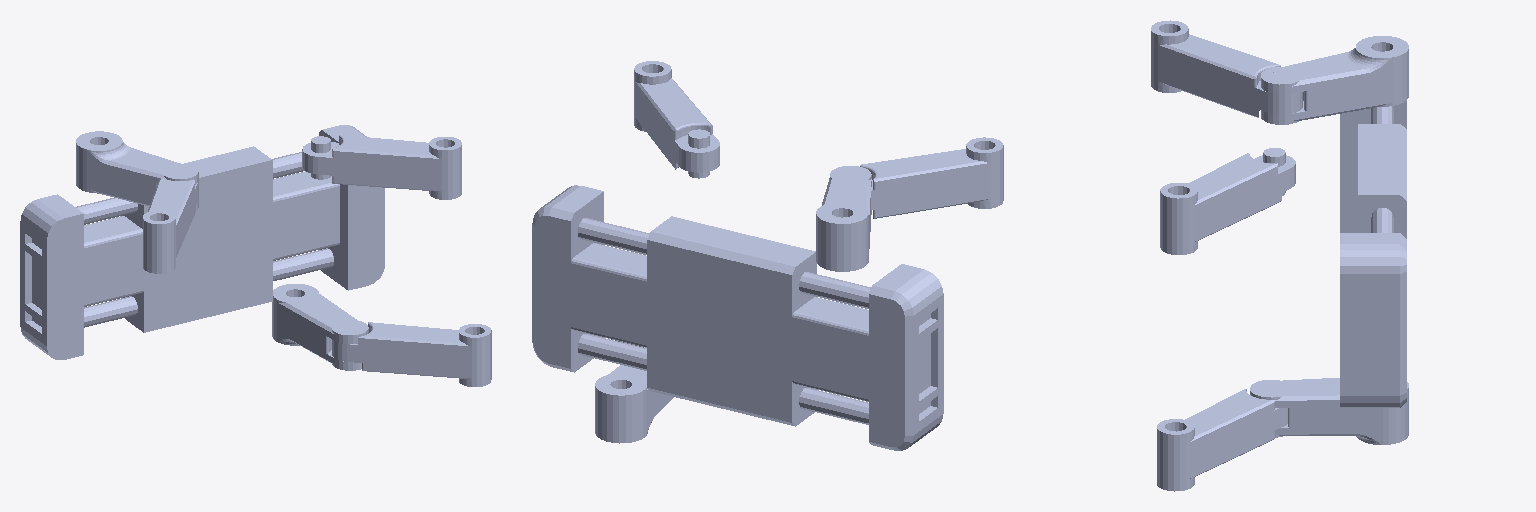
robot.urdf — Assem1_v3.SLDASM:
<?xml version="1.0" encoding="utf-8"?>
<!-- This URDF was automatically created by SolidWorks to URDF Exporter! Originally created by [author] ([email redacted]) 
     Commit Version: 1.6.0-4-g7f85cfe  Build Version: 1.6.7995.38578
     For more information, please see http://wiki.ros.org/sw_urdf_exporter -->
<robot
  name="Assem1_v3.SLDASM">
  <link
    name="base_link">
    <inertial>
      <origin
        xyz="0.00454531888101939 -0.0617123667166056 -2.77555756156289E-17"
        rpy="0 0 0" />
      <mass
        value="38.4857486524171" />
      <inertia
        ixx="0.485830705764068"
        ixy="0.00363638069026404"
        ixz="1.66245679239784E-16"
        iyy="3.89642509357713"
        iyz="1.06299583251663E-17"
        izz="3.51367848534271" />
    </inertial>
    <visual>
      <origin
        xyz="0 0 0"
        rpy="0 0 0" />
      <geometry>
        <mesh
          filename="package://Assem1_v3.SLDASM/meshes/base_link.STL" />
      </geometry>
      <material
        name="">
        <color
          rgba="0.792156862745098 0.819607843137255 0.933333333333333 1" />
      </material>
    </visual>
    <collision>
      <origin
        xyz="0 0 0"
        rpy="0 0 0" />
      <geometry>
        <mesh
          filename="package://Assem1_v3.SLDASM/meshes/base_link.STL" />
      </geometry>
    </collision>
  </link>
  <link
    name="flu_link">
    <inertial>
      <origin
        xyz="0.0900093081078345 2.8436243387775E-08 0.0538957967382936"
        rpy="0 0 0" />
      <mass
        value="3.08030257121594" />
      <inertia
        ixx="0.00640523404832462"
        ixy="3.23758606924664E-09"
        ixz="0.00104219417291525"
        iyy="0.026234794652848"
        iyz="-1.06222201156497E-08"
        izz="0.0261860648976372" />
    </inertial>
    <visual>
      <origin
        xyz="0 0 0"
        rpy="0 0 0" />
      <geometry>
        <mesh
          filename="package://Assem1_v3.SLDASM/meshes/flu_link.STL" />
      </geometry>
      <material
        name="">
        <color
          rgba="0.792156862745098 0.819607843137255 0.933333333333333 1" />
      </material>
    </visual>
    <collision>
      <origin
        xyz="0 0 0"
        rpy="0 0 0" />
      <geometry>
        <mesh
          filename="package://Assem1_v3.SLDASM/meshes/flu_link.STL" />
      </geometry>
    </collision>
  </link>
  <joint
    name="flu"
    type="revolute">
    <origin
      xyz="-0.29 -0.0550000000000003 0.2225"
      rpy="0 0 -1.12122873429267" />
    <parent
      link="base_link" />
    <child
      link="flu_link" />
    <axis
      xyz="0 0 1" />
    <limit
      lower="-1.57"
      upper="1.57"
      effort="100"
      velocity="10" />
  </joint>
  <link
    name="fll_link">
    <inertial>
      <origin
        xyz="0.16795485109117 1.1376176762834E-05 0.0499908753255481"
        rpy="0 0 0" />
      <mass
        value="3.19560260529421" />
      <inertia
        ixx="0.00497469754329268"
        ixy="4.81122477130808E-06"
        ixz="-3.85736306831486E-06"
        iyy="0.0406802699593358"
        iyz="1.30236499604513E-06"
        izz="0.039923443033037" />
    </inertial>
    <visual>
      <origin
        xyz="0 0 0"
        rpy="0 0 0" />
      <geometry>
        <mesh
          filename="package://Assem1_v3.SLDASM/meshes/fll_link.STL" />
      </geometry>
      <material
        name="">
        <color
          rgba="0.792156862745098 0.819607843137255 0.933333333333333 1" />
      </material>
    </visual>
    <collision>
      <origin
        xyz="0 0 0"
        rpy="0 0 0" />
      <geometry>
        <mesh
          filename="package://Assem1_v3.SLDASM/meshes/fll_link.STL" />
      </geometry>
    </collision>
  </link>
  <joint
    name="fll"
    type="revolute">
    <origin
      xyz="0.25 0 0"
      rpy="0 0 -1.13851717439948" />
    <parent
      link="flu_link" />
    <child
      link="fll_link" />
    <axis
      xyz="0 0 1" />
    <limit
      lower="-1.57"
      upper="1.57"
      effort="100"
      velocity="10" />
  </joint>
  <link
    name="fru_link">
    <inertial>
      <origin
        xyz="0.0900093102167698 3.4641804064206E-08 0.053895779669951"
        rpy="0 0 0" />
      <mass
        value="3.08030206641427" />
      <inertia
        ixx="0.00640522970601072"
        ixy="5.18665106241482E-09"
        ixz="0.00104219303257973"
        iyy="0.0262347879832158"
        iyz="-1.30138679828133E-08"
        izz="0.0261860612180928" />
    </inertial>
    <visual>
      <origin
        xyz="0 0 0"
        rpy="0 0 0" />
      <geometry>
        <mesh
          filename="package://Assem1_v3.SLDASM/meshes/fru_link.STL" />
      </geometry>
      <material
        name="">
        <color
          rgba="0.792156862745098 0.819607843137255 0.933333333333333 1" />
      </material>
    </visual>
    <collision>
      <origin
        xyz="0 0 0"
        rpy="0 0 0" />
      <geometry>
        <mesh
          filename="package://Assem1_v3.SLDASM/meshes/fru_link.STL" />
      </geometry>
    </collision>
  </link>
  <joint
    name="fru"
    type="revolute">
    <origin
      xyz="-0.289999999999999 -0.0550000000000002 -0.2225"
      rpy="3.14159265358979 0 -1.00317652384274" />
    <parent
      link="base_link" />
    <child
      link="fru_link" />
    <axis
      xyz="0 0 1" />
    <limit
      lower="-1.57"
      upper="1.57"
      effort="100"
      velocity="10" />
  </joint>
  <link
    name="frl_link">
    <inertial>
      <origin
        xyz="0.167954851146316 1.13763076222684E-05 0.0499908752785411"
        rpy="0 0 0" />
      <mass
        value="3.19560260133236" />
      <inertia
        ixx="0.00497469753825961"
        ixy="4.8112471454408E-06"
        ixz="-3.85738975864844E-06"
        iyy="0.0406802699104282"
        iyz="1.30235932492415E-06"
        izz="0.0399234429887749" />
    </inertial>
    <visual>
      <origin
        xyz="0 0 0"
        rpy="0 0 0" />
      <geometry>
        <mesh
          filename="package://Assem1_v3.SLDASM/meshes/frl_link.STL" />
      </geometry>
      <material
        name="">
        <color
          rgba="0.792156862745098 0.819607843137255 0.933333333333333 1" />
      </material>
    </visual>
    <collision>
      <origin
        xyz="0 0 0"
        rpy="0 0 0" />
      <geometry>
        <mesh
          filename="package://Assem1_v3.SLDASM/meshes/frl_link.STL" />
      </geometry>
    </collision>
  </link>
  <joint
    name="frl"
    type="revolute">
    <origin
      xyz="0.25 0 0"
      rpy="0 0 0.927916437805553" />
    <parent
      link="fru_link" />
    <child
      link="frl_link" />
    <axis
      xyz="0 0 1" />
    <limit
      lower="-1.57"
      upper="1.57"
      effort="100"
      velocity="10" />
  </joint>
  <link
    name="blu_link">
    <inertial>
      <origin
        xyz="0.0900093181651296 3.89552862190001E-08 0.0538957669205462"
        rpy="0 0 0" />
      <mass
        value="3.08030178447125" />
      <inertia
        ixx="0.00640522656926389"
        ixy="6.27291777267718E-09"
        ixz="0.00104219187862973"
        iyy="0.0262347837614182"
        iyz="-1.48479982783173E-08"
        izz="0.0261860596399259" />
    </inertial>
    <visual>
      <origin
        xyz="0 0 0"
        rpy="0 0 0" />
      <geometry>
        <mesh
          filename="package://Assem1_v3.SLDASM/meshes/blu_link.STL" />
      </geometry>
      <material
        name="">
        <color
          rgba="0.792156862745098 0.819607843137255 0.933333333333333 1" />
      </material>
    </visual>
    <collision>
      <origin
        xyz="0 0 0"
        rpy="0 0 0" />
      <geometry>
        <mesh
          filename="package://Assem1_v3.SLDASM/meshes/blu_link.STL" />
      </geometry>
    </collision>
  </link>
  <joint
    name="blu"
    type="revolute">
    <origin
      xyz="0.29 -0.055 0.2225"
      rpy="0 0 -1.83292456259005" />
    <parent
      link="base_link" />
    <child
      link="blu_link" />
    <axis
      xyz="0 0 1" />
    <limit
      lower="-1.57"
      upper="1.57"
      effort="100"
      velocity="10" />
  </joint>
  <link
    name="bll_link">
    <inertial>
      <origin
        xyz="0.167954851091998 1.13761839362625E-05 0.0499908753239368"
        rpy="0 0 0" />
      <mass
        value="3.19560260515606" />
      <inertia
        ixx="0.00497469754311635"
        ixy="4.81122601893574E-06"
        ixz="-3.85736427111837E-06"
        iyy="0.0406802699571201"
        iyz="1.30236463090303E-06"
        izz="0.0399234430312326" />
    </inertial>
    <visual>
      <origin
        xyz="0 0 0"
        rpy="0 0 0" />
      <geometry>
        <mesh
          filename="package://Assem1_v3.SLDASM/meshes/bll_link.STL" />
      </geometry>
      <material
        name="">
        <color
          rgba="0.792156862745098 0.819607843137255 0.933333333333333 1" />
      </material>
    </visual>
    <collision>
      <origin
        xyz="0 0 0"
        rpy="0 0 0" />
      <geometry>
        <mesh
          filename="package://Assem1_v3.SLDASM/meshes/bll_link.STL" />
      </geometry>
    </collision>
  </link>
  <joint
    name="bll"
    type="revolute">
    <origin
      xyz="0.25 0 0"
      rpy="0 0 1.11630563742211" />
    <parent
      link="blu_link" />
    <child
      link="bll_link" />
    <axis
      xyz="0 0 1" />
    <limit
      lower="-1.57"
      upper="1.57"
      effort="100"
      velocity="10" />
  </joint>
  <link
    name="bru_link">
    <inertial>
      <origin
        xyz="0.0900093102637642 3.6130103353571E-08 0.0538957762043125"
        rpy="0 0 0" />
      <mass
        value="3.080301966493" />
      <inertia
        ixx="0.00640522884709718"
        ixy="5.42961277986433E-09"
        ixz="0.00104219297419877"
        iyy="0.0262347870692762"
        iyz="-1.35118704661807E-08"
        izz="0.0261860609591814" />
    </inertial>
    <visual>
      <origin
        xyz="0 0 0"
        rpy="0 0 0" />
      <geometry>
        <mesh
          filename="package://Assem1_v3.SLDASM/meshes/bru_link.STL" />
      </geometry>
      <material
        name="">
        <color
          rgba="0.792156862745098 0.819607843137255 0.933333333333333 1" />
      </material>
    </visual>
    <collision>
      <origin
        xyz="0 0 0"
        rpy="0 0 0" />
      <geometry>
        <mesh
          filename="package://Assem1_v3.SLDASM/meshes/bru_link.STL" />
      </geometry>
    </collision>
  </link>
  <joint
    name="bru"
    type="revolute">
    <origin
      xyz="0.29 -0.055 -0.2225"
      rpy="3.14159265358979 0 -1.50135697543811" />
    <parent
      link="base_link" />
    <child
      link="bru_link" />
    <axis
      xyz="0 0 1" />
    <limit
      lower="-1.57"
      upper="1.57"
      effort="100"
      velocity="10" />
  </joint>
  <link
    name="brl_link">
    <inertial>
      <origin
        xyz="0.167954851061053 1.13762164221654E-05 0.0499908752968465"
        rpy="0 0 0" />
      <mass
        value="3.19560260548347" />
      <inertia
        ixx="0.00497469754418578"
        ixy="4.81123079090371E-06"
        ixz="-3.85737699128557E-06"
        iyy="0.0406802699619135"
        iyz="1.3023619767635E-06"
        izz="0.0399234430345866" />
    </inertial>
    <visual>
      <origin
        xyz="0 0 0"
        rpy="0 0 0" />
      <geometry>
        <mesh
          filename="package://Assem1_v3.SLDASM/meshes/brl_link.STL" />
      </geometry>
      <material
        name="">
        <color
          rgba="0.792156862745098 0.819607843137255 0.933333333333333 1" />
      </material>
    </visual>
    <collision>
      <origin
        xyz="0 0 0"
        rpy="0 0 0" />
      <geometry>
        <mesh
          filename="package://Assem1_v3.SLDASM/meshes/brl_link.STL" />
      </geometry>
    </collision>
  </link>
  <joint
    name="brl"
    type="revolute">
    <origin
      xyz="0.25 0 0"
      rpy="0 0 -0.786196210632788" />
    <parent
      link="bru_link" />
    <child
      link="brl_link" />
    <axis
      xyz="0 0 1" />
    <limit
      lower="-1.57"
      upper="1.57"
      effort="100"
      velocity="10" />
  </joint>
</robot>

--- Render facts (derived) ---
3 views of the same robot in one strip: view 1: azimuth 30°, elevation 25°; view 2: azimuth 150°, elevation 25°; view 3: azimuth 270°, elevation 25° (orthographic).
Robot: Assem1_v3.SLDASM — 9 links, 8 joints (8 revolute); root link base_link; default pose: all joints at 0.
Links seen in each view (by area): view 1: base_link, bll_link, brl_link, flu_link, bru_link, fll_link; view 2: base_link, fll_link, bll_link, flu_link, bru_link; view 3: base_link, bll_link, flu_link, fll_link, brl_link, bru_link.
Link boxes in pixels (bbox=[...]): base_link: bbox=[20, 125, 384, 359]; bll_link: bbox=[302, 135, 461, 199]; brl_link: bbox=[332, 322, 491, 386]; flu_link: bbox=[76, 131, 198, 210]; bru_link: bbox=[272, 284, 368, 370]; fll_link: bbox=[143, 167, 198, 273]; base_link: bbox=[532, 185, 943, 450]; fll_link: bbox=[840, 137, 1003, 218]; bll_link: bbox=[634, 61, 719, 178]; flu_link: bbox=[816, 166, 871, 271]; bru_link: bbox=[595, 347, 673, 443]; base_link: bbox=[1340, 101, 1406, 407]; bll_link: bbox=[1160, 148, 1295, 254]; flu_link: bbox=[1261, 36, 1408, 124]; fll_link: bbox=[1151, 20, 1302, 117]; brl_link: bbox=[1157, 384, 1287, 491]; bru_link: bbox=[1250, 378, 1408, 444].
Bounding box of the posed robot: 1.1 × 0.5784 × 0.685 m (x, y, z).
Meshes: 9 distinct files referenced, 6 mesh visuals loaded (6 binary STL); not drawn: 3 (reference not matched to a file when rendering).